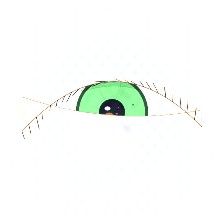foreign_body_visible: (91, 104, 127, 133)
